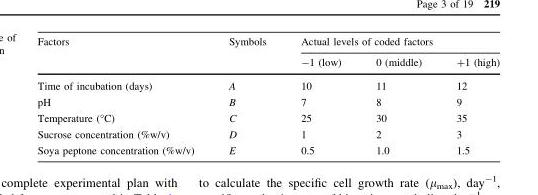table: (36, 36, 499, 155)
table column: (36, 36, 210, 155), (357, 36, 438, 155), (282, 36, 357, 155), (210, 36, 282, 155), (438, 36, 499, 155)
table column header: (36, 36, 499, 74)
table row: (36, 51, 499, 74), (36, 74, 499, 94), (36, 108, 499, 126), (36, 126, 499, 142), (36, 36, 499, 51), (36, 94, 499, 108), (36, 142, 499, 155)
table spanning cell: (36, 36, 210, 74), (282, 36, 499, 51), (210, 36, 282, 74)
